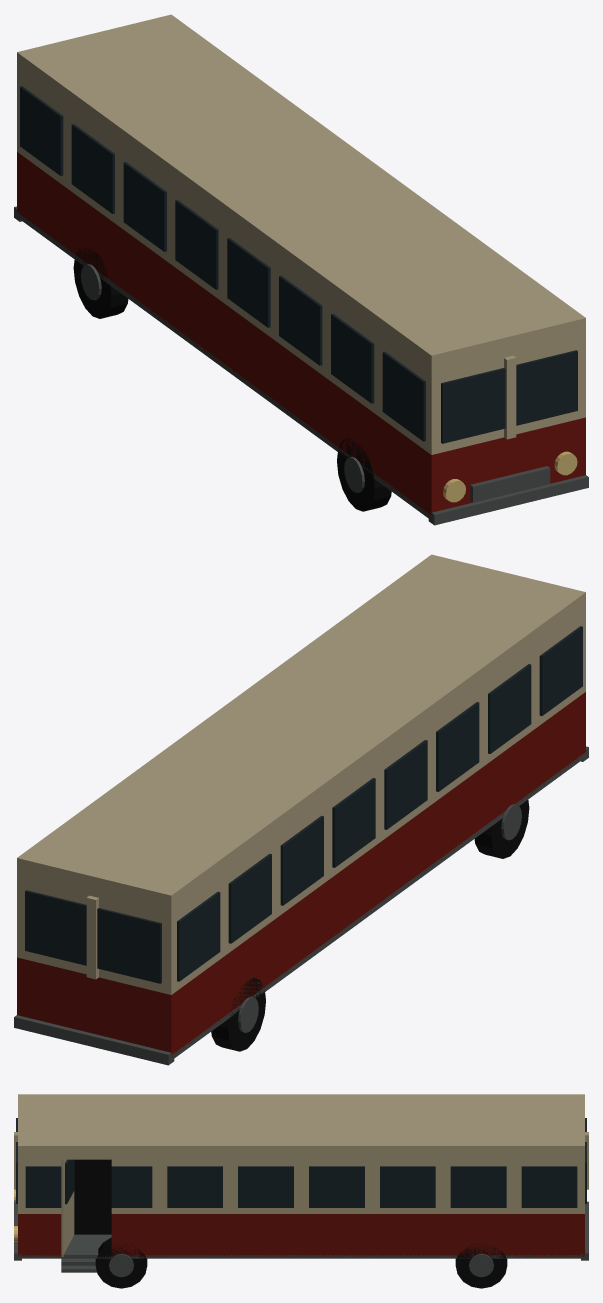
Rendered from postbus_open.glb.
3 views of the same model, one above another, from view 1: azimuth 30°, elevation 25°; view 2: azimuth 150°, elevation 25°; view 3: azimuth 270°, elevation 25° (orthographic). The views are drawn at different scales.
Parts seen in each view (by area): view 1: postbus_open; view 2: postbus_open; view 3: postbus_open.
Boxes of the visible parts, box(x1,y1,x2,y2) form: postbus_open: box(14, 14, 588, 525); postbus_open: box(14, 554, 588, 1065); postbus_open: box(14, 1094, 588, 1288).
Size of the model in its own units: 2.52 by 3.15 by 11.5.
